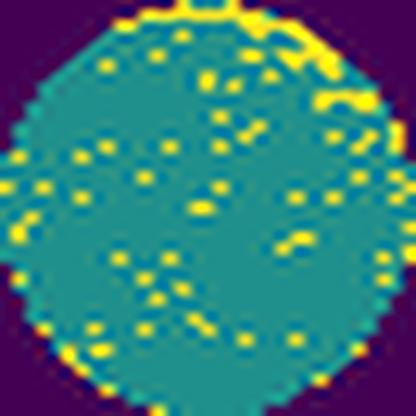Edge-Loc: (111, 0, 341, 80), (314, 82, 386, 118)
